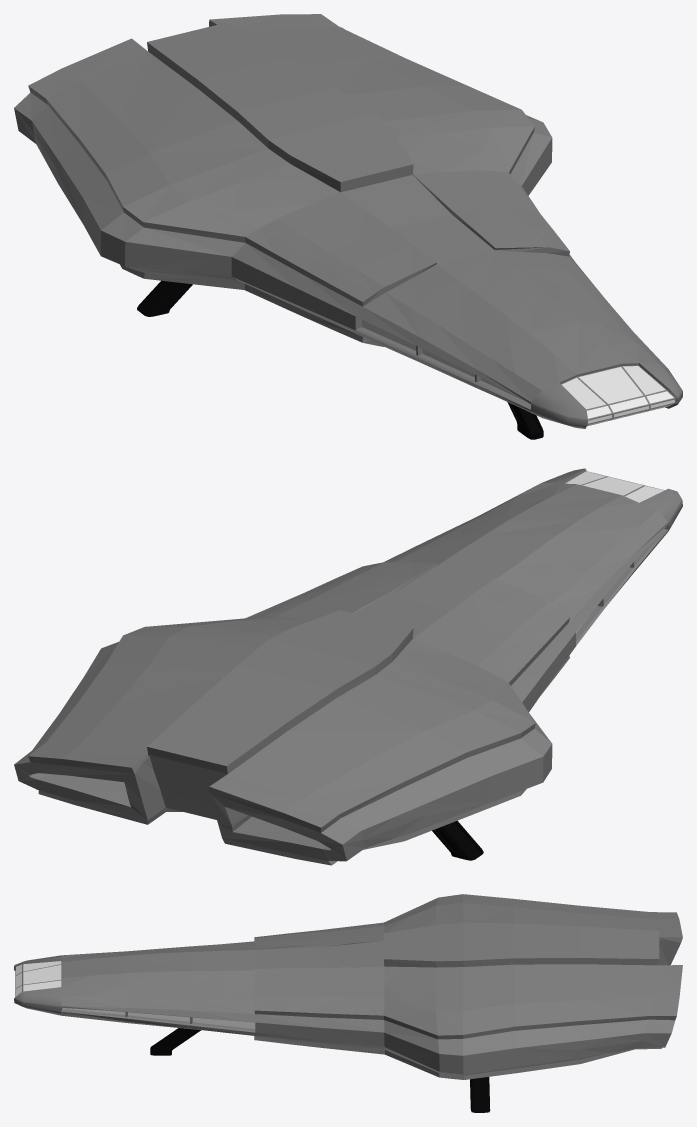
Rendered from Starship.fbx.
The picture shows the model from 3 angles, top to bottom: view 1: azimuth 30°, elevation 25°; view 2: azimuth 150°, elevation 25°; view 3: azimuth 270°, elevation 25°; orthographic projection. The views are drawn at different scales.
Parts seen in each view (by area): view 1: Exterior, WindowsOuter, LandingGear, WindowFrameOuter, WindowsInner; view 2: Exterior, WindowsOuter, LandingGear, WindowFrameOuter; view 3: Exterior, WindowsOuter, LandingGear, WindowFrameOuter, WindowsInner.
Boxes of the visible parts, x1,y1,x2,y2 form: Exterior: (14, 14, 682, 428); WindowsOuter: (362, 319, 674, 425); LandingGear: (137, 280, 543, 439); WindowFrameOuter: (357, 317, 675, 425); WindowsInner: (362, 321, 674, 425); Exterior: (14, 468, 682, 865); WindowsOuter: (565, 471, 664, 632); LandingGear: (432, 820, 483, 860); WindowFrameOuter: (576, 471, 666, 641); Exterior: (14, 894, 682, 1079); WindowsOuter: (16, 961, 255, 1028); LandingGear: (150, 1028, 490, 1112); WindowFrameOuter: (15, 960, 255, 1030); WindowsInner: (16, 963, 254, 1028).
Bounding box in the file's own units: 39.99 × 13.4 × 72.32.
Materials: 2 (1 with a texture image).
